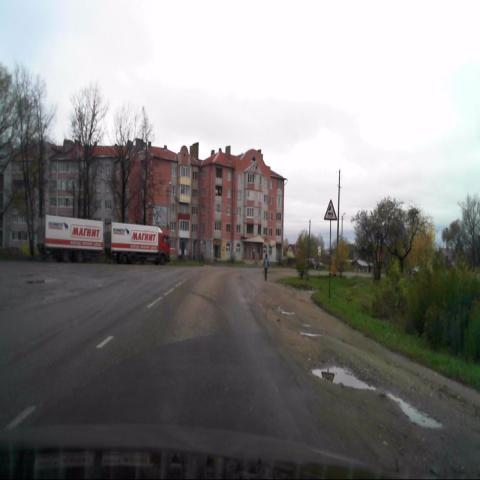1_2: (324, 198, 338, 221)
